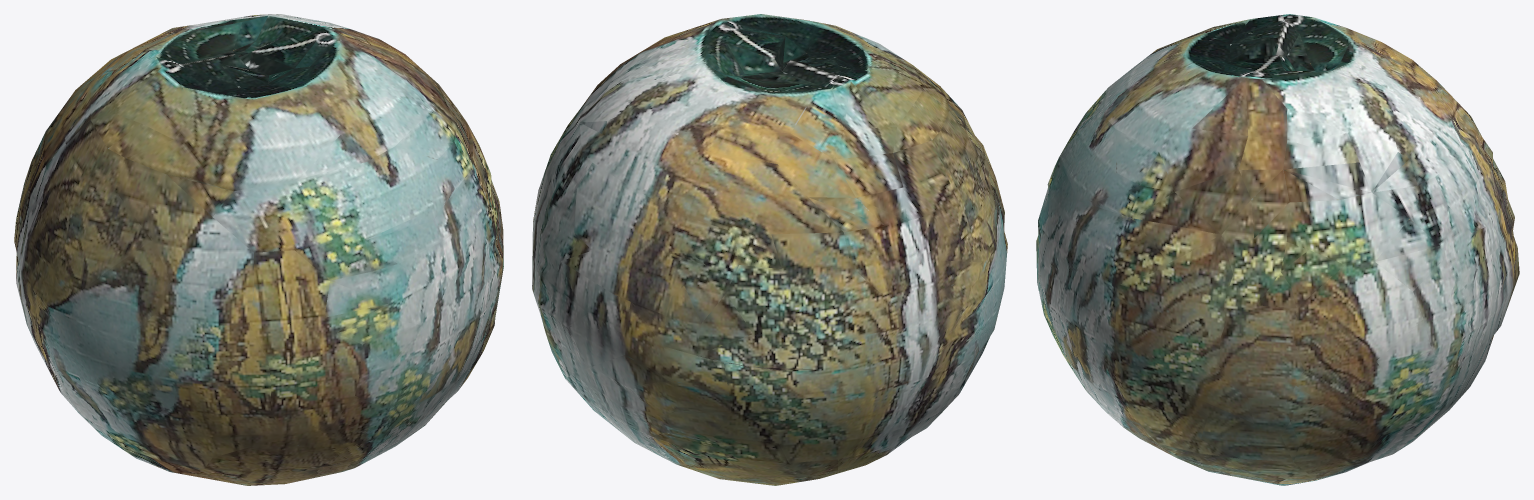
The model's file is AC1 Geoffrey Landscape 512.glb.
3 views of the same model, side by side, from view 1: azimuth 30°, elevation 25°; view 2: azimuth 150°, elevation 25°; view 3: azimuth 270°, elevation 25° (orthographic). The views are drawn at different scales.
Bounding box in the file's own units: 1000 × 944 × 996.
1 material, 1 textured.
